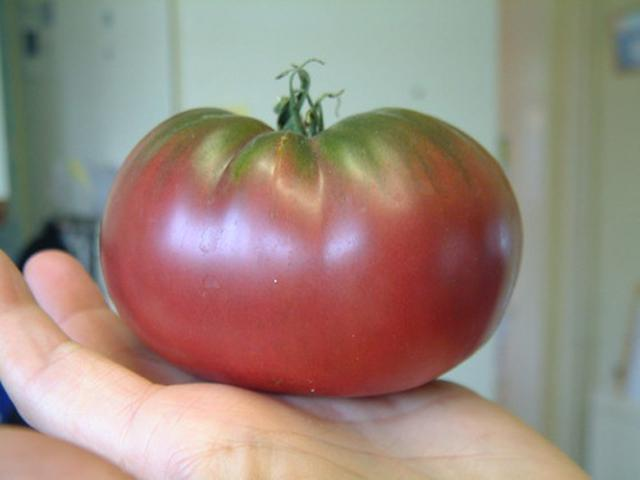tomato: (100, 106, 522, 397)
